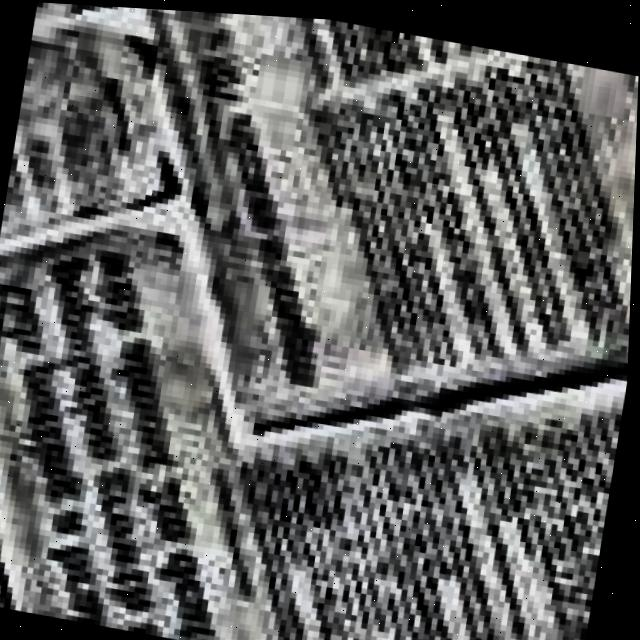paper: (0, 211, 630, 640), (151, 7, 639, 438)
